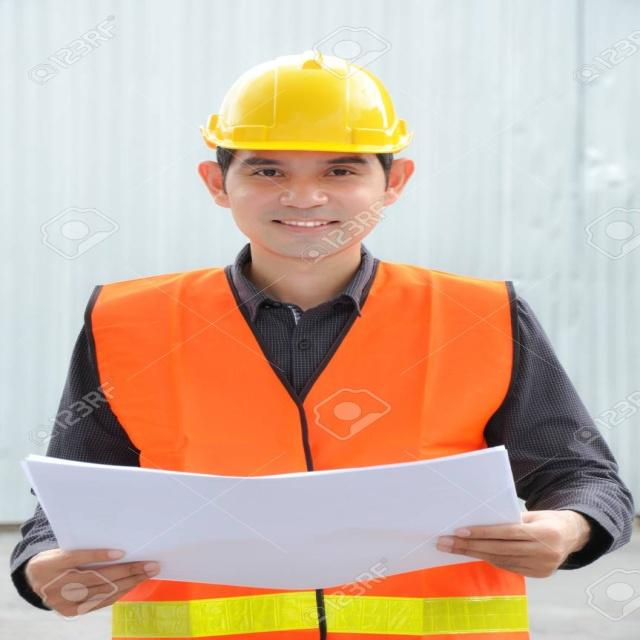helmet: (198, 65, 416, 343)
vest: (87, 359, 537, 640)
